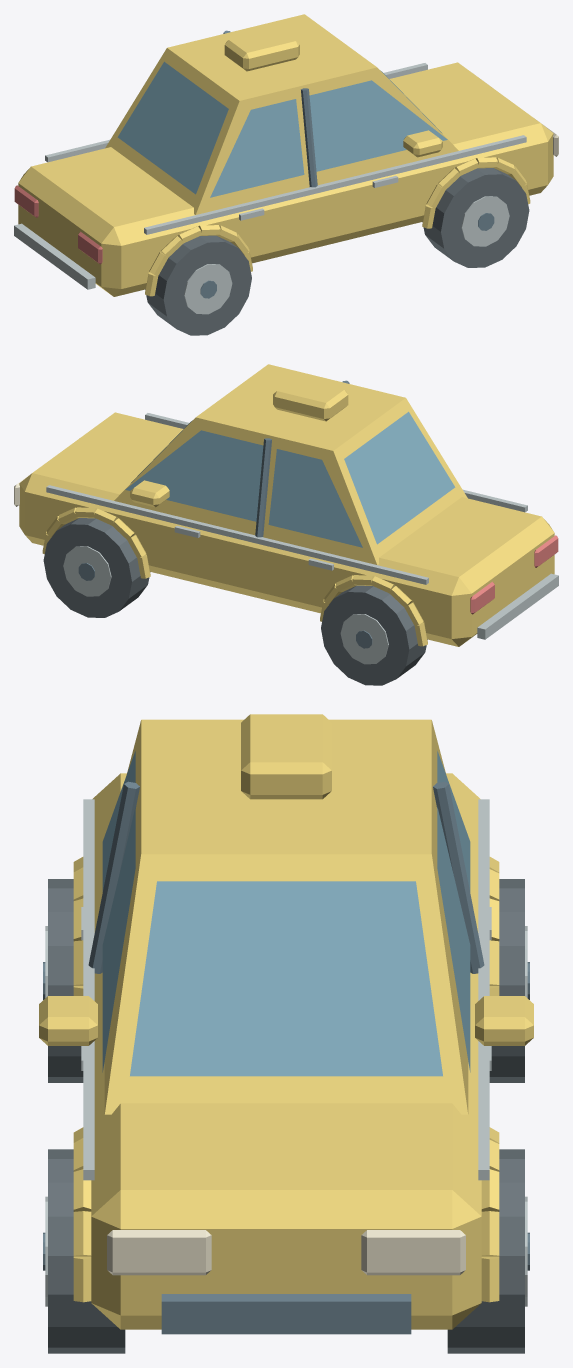
Rendered from taxi.glb.
3 views of the same model, one above another, from view 1: azimuth 30°, elevation 25°; view 2: azimuth 150°, elevation 25°; view 3: azimuth 270°, elevation 25° (orthographic). The views are drawn at different scales.
Parts seen in each view (by area): view 1: taxi_yellow, taxi_glass; view 2: taxi_yellow, taxi_glass; view 3: taxi_yellow, taxi_glass.
Part boxes in pixels (x1,y1,x2,y2): taxi_yellow: (14, 14, 558, 335); taxi_glass: (117, 61, 447, 197); taxi_yellow: (14, 364, 558, 685); taxi_glass: (125, 411, 455, 547); taxi_yellow: (39, 714, 533, 1353); taxi_glass: (102, 751, 470, 1076).
Size of the model in its own units: 2.39 by 1.09 by 1.09.
Materials: 2 (2 with a texture image).
